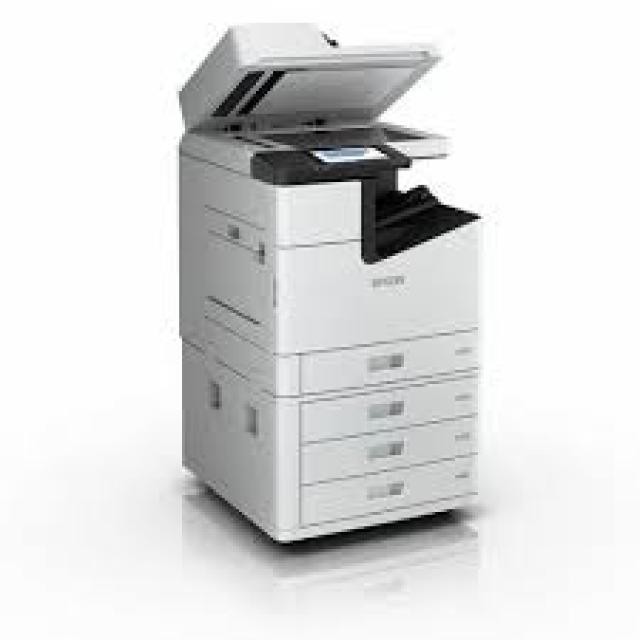printer: (174, 20, 484, 543)
